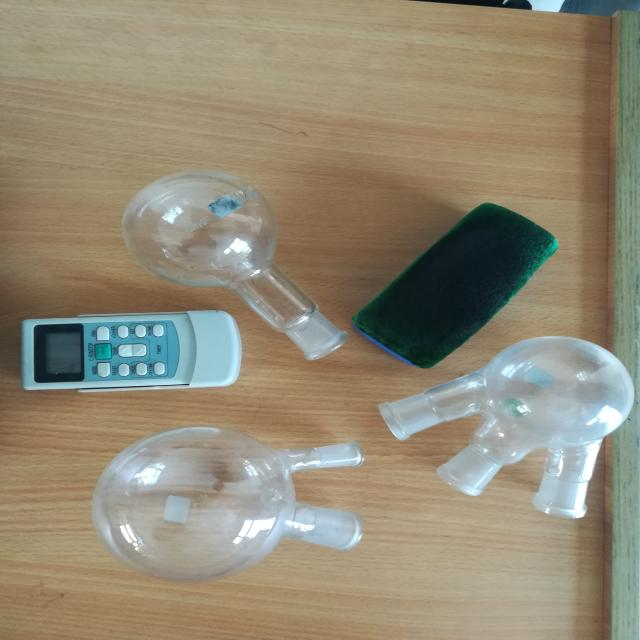Round_Bottom_Flask_Borosilicate_Glass_1_Neck: (93, 132, 371, 370)
Round_Bottom_Flask_Borosilicate_Glass_2_Neck: (61, 407, 374, 595)
Round_Bottom_Flask_Borosilicate_Glass_3_Neck: (381, 320, 640, 534)
